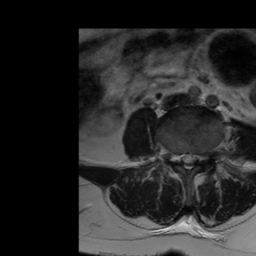CCS_stenosis: (184, 145, 192, 177)
LFS_normal: (199, 145, 206, 169)
LLS_stenosis: (192, 145, 199, 171)
RFS_normal: (170, 144, 178, 171)
RLS_normal: (177, 146, 184, 173)
